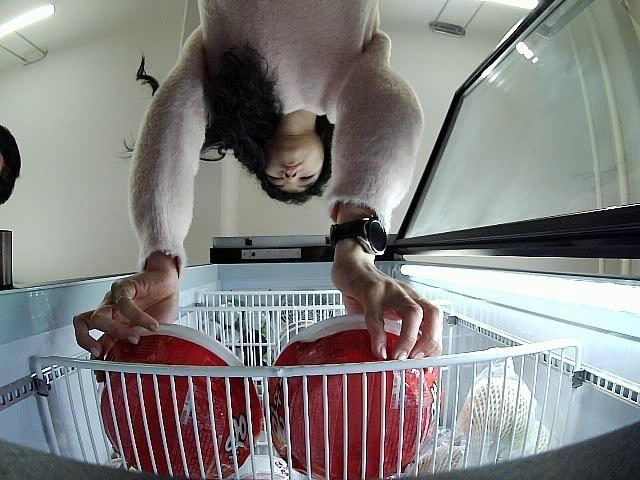10_wangTtukkeong: (264, 316, 442, 480), (100, 324, 263, 480)
